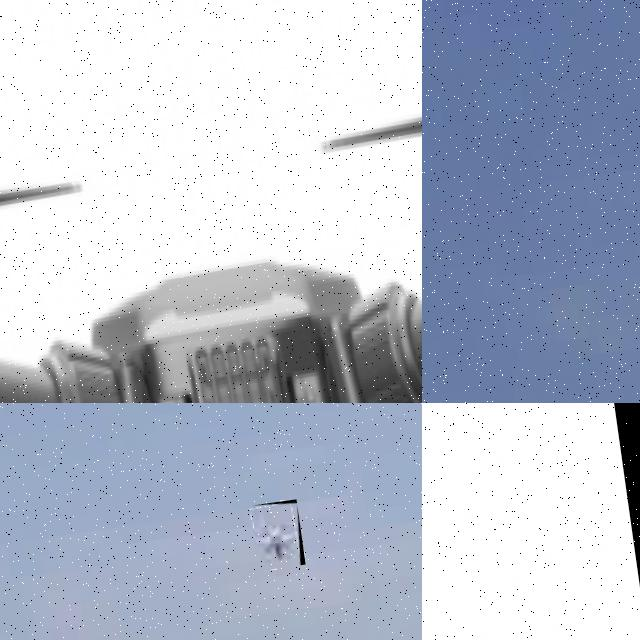drone: (0, 0, 422, 403), (252, 499, 306, 571)
